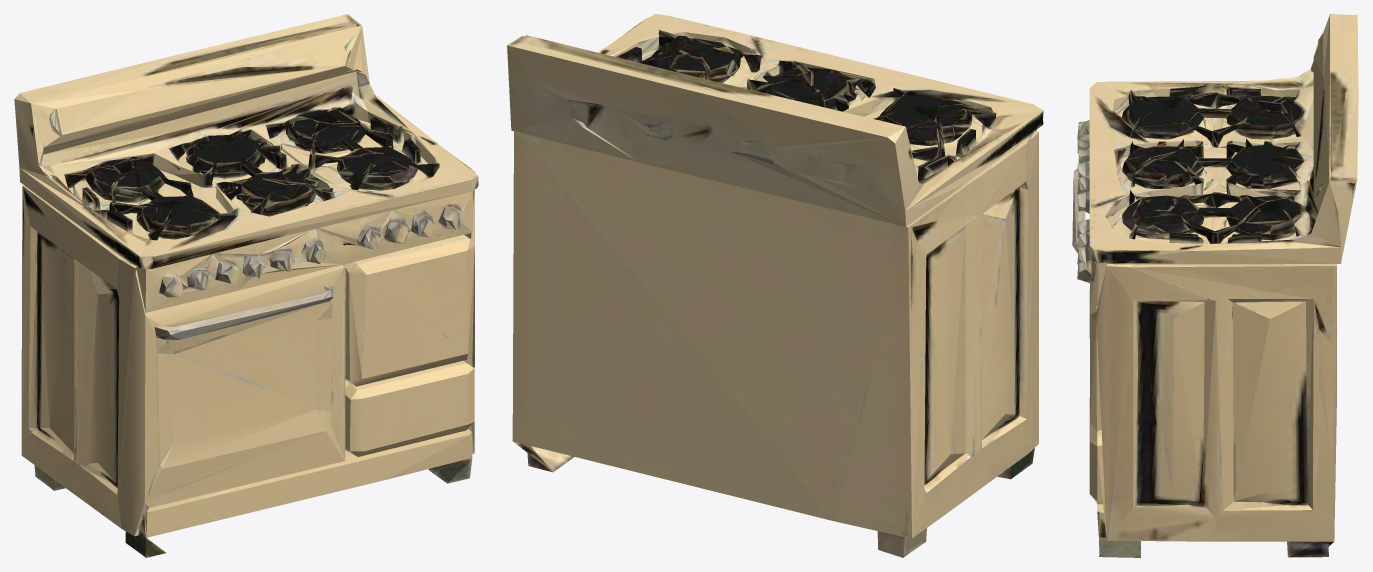
Rendered from stove.glb.
3 renders of one model, left to right at view 1: azimuth 30°, elevation 25°; view 2: azimuth 150°, elevation 25°; view 3: azimuth 270°, elevation 25°, orthographic. The views are drawn at different scales.
Bounding box in the file's own units: 1.85 × 1.89 × 1.29.
Materials: 1 (1 with a texture image).
